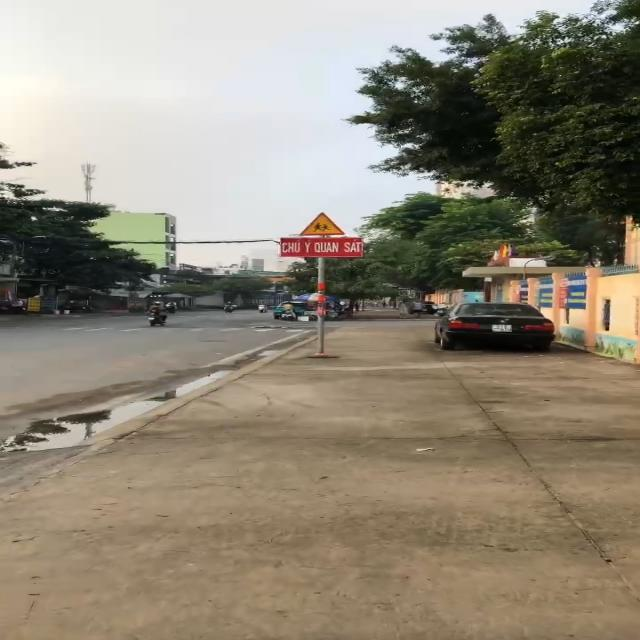Bien bao tre em: (298, 212, 346, 238)
